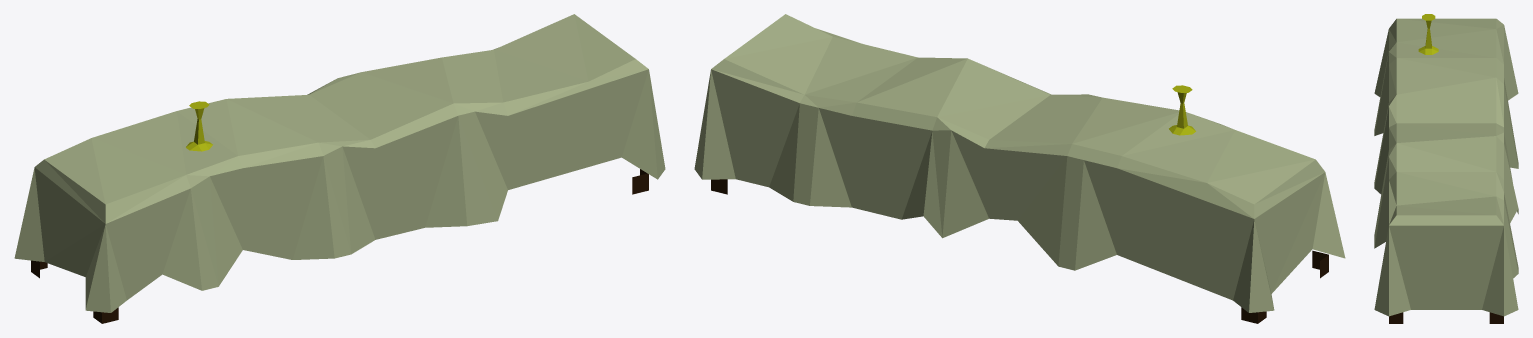
Rendered from obj_table_24_0.obj.
3 renders of one model, left to right at view 1: azimuth 30°, elevation 25°; view 2: azimuth 150°, elevation 25°; view 3: azimuth 270°, elevation 25°, orthographic. The views are drawn at different scales.
Size of the model in its own units: 3.83 by 1.08 by 1.02.
